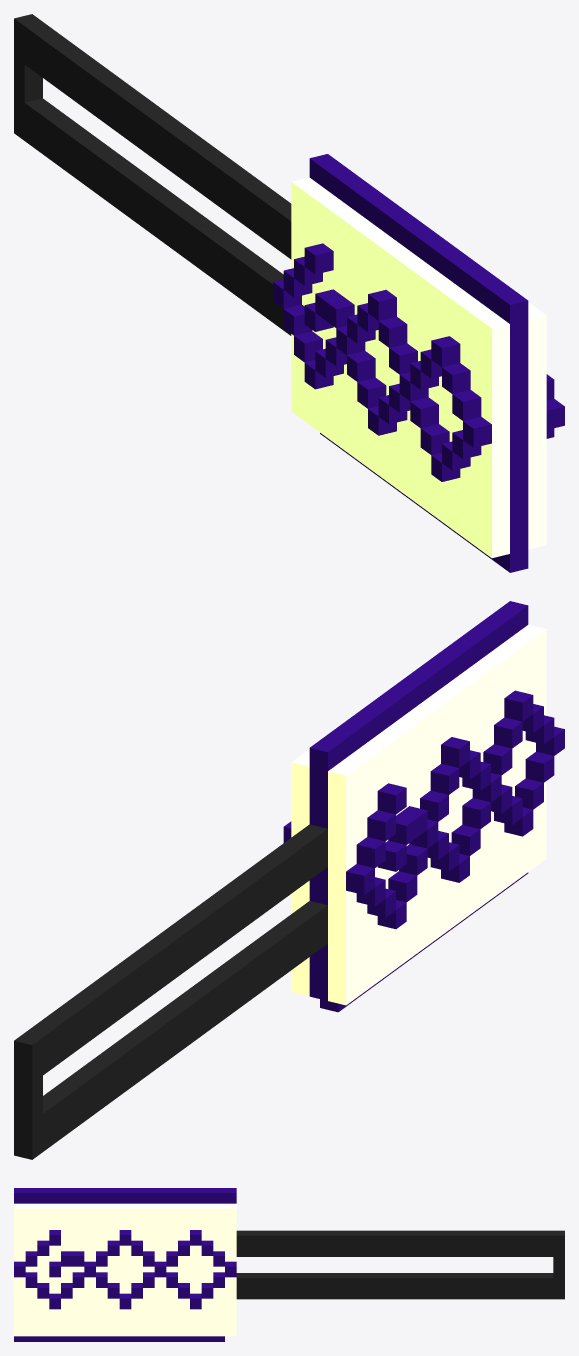
Rendered from dvdSign.glb.
The picture shows the model from 3 angles, top to bottom: view 1: azimuth 30°, elevation 25°; view 2: azimuth 150°, elevation 25°; view 3: azimuth 270°, elevation 25°; orthographic projection. The views are drawn at different scales.
Parts seen in each view (by area): view 1: ObjObject; view 2: ObjObject; view 3: ObjObject.
Part boxes in pixels (box(x1,y1,x2,y2)): ObjObject: box(14, 14, 564, 572); ObjObject: box(14, 601, 564, 1159); ObjObject: box(14, 1188, 564, 1341).
Bounding box in the file's own units: 0.5 × 1.4 × 4.7.
2 materials, 1 textured.
